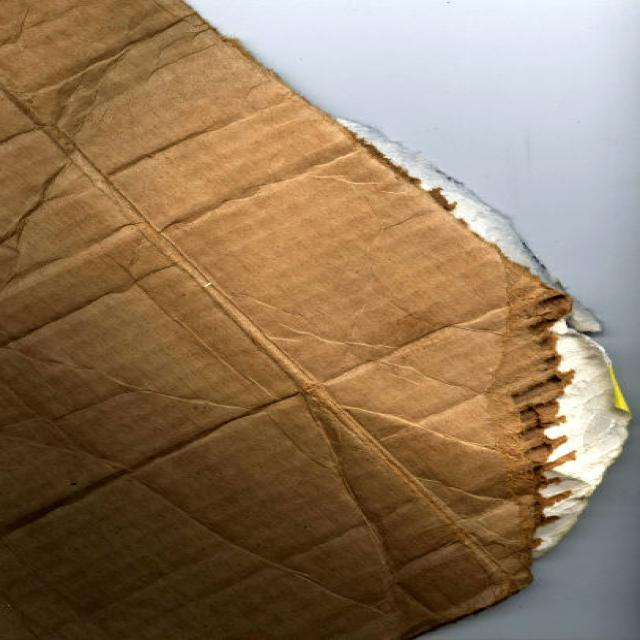cardboard: (2, 2, 576, 625)
